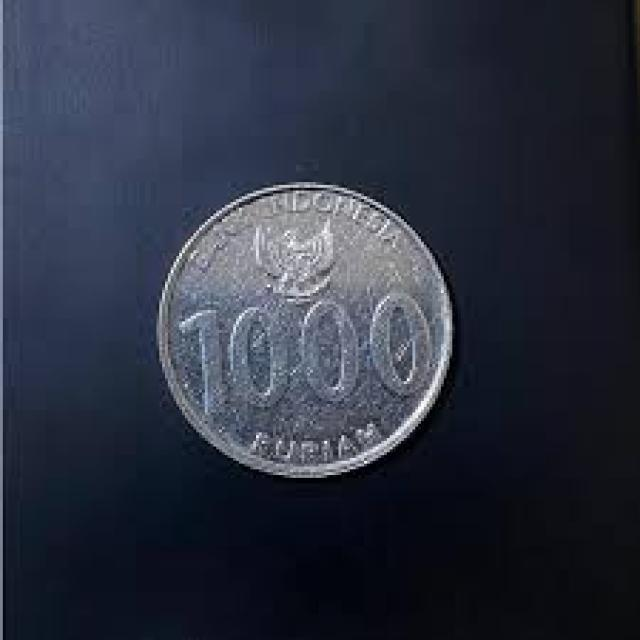coin_1000_e2010: (155, 174, 467, 476)
